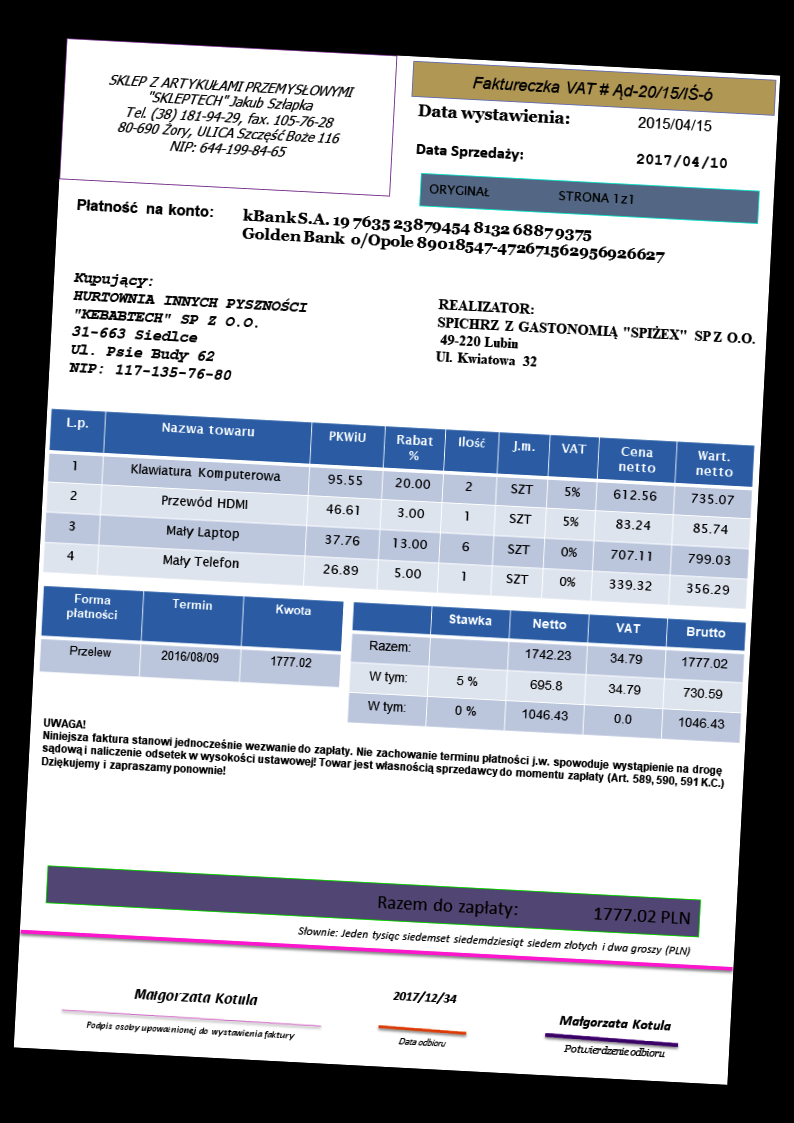Table: (40, 405, 757, 612), (343, 599, 747, 746), (38, 584, 345, 688)
TextBox: (37, 712, 730, 806), (63, 266, 312, 388), (431, 294, 761, 383), (237, 203, 670, 266), (101, 65, 358, 168), (294, 922, 697, 960), (372, 887, 693, 929), (468, 69, 720, 105), (426, 178, 637, 210), (79, 1017, 299, 1043), (415, 97, 575, 129), (70, 194, 218, 224), (130, 980, 262, 1011), (410, 137, 531, 166), (553, 1009, 677, 1035), (632, 146, 732, 174), (632, 108, 714, 138), (558, 1041, 669, 1062), (389, 986, 459, 1008), (394, 1033, 450, 1053)
